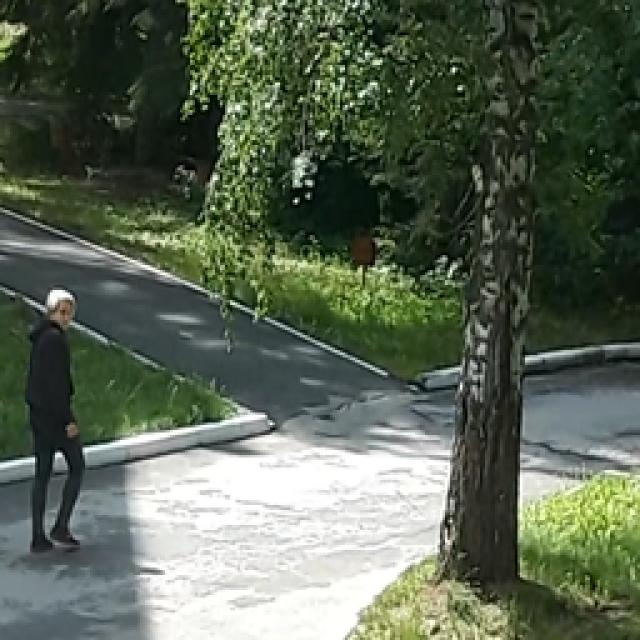Persona: (23, 286, 91, 556)
